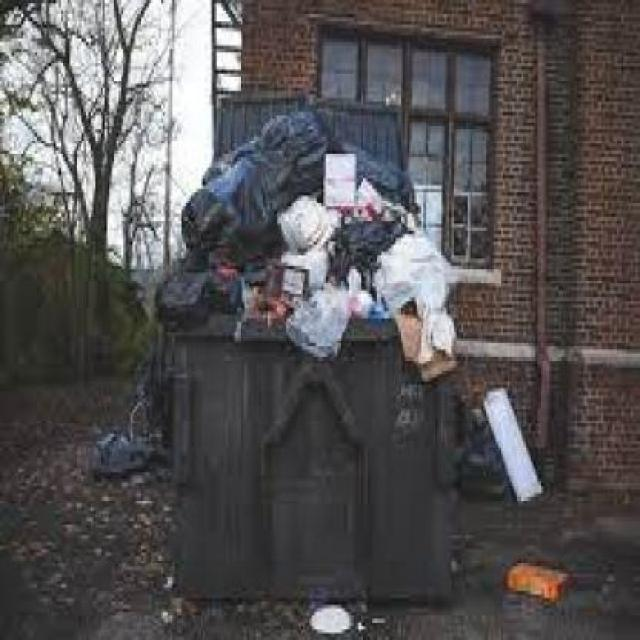garbage: (154, 109, 463, 340)
